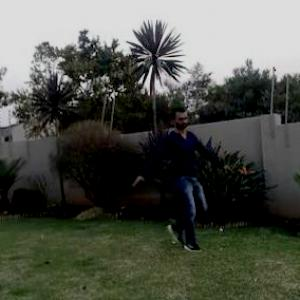land: (116, 102, 242, 255)
